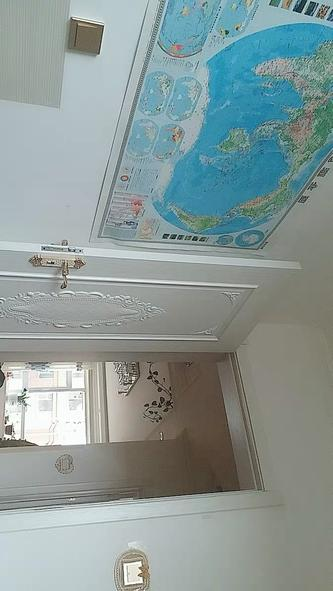switch: (83, 27, 106, 50)
